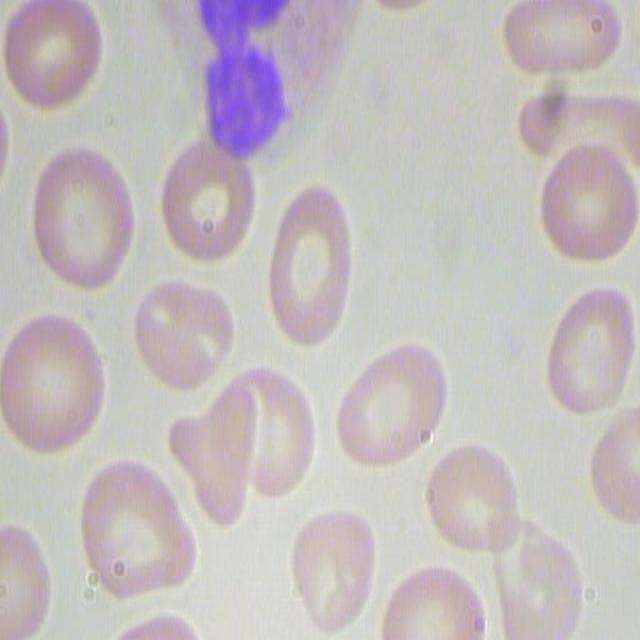RBC: (78, 457, 200, 604), (24, 139, 138, 295), (256, 178, 358, 348), (1, 306, 110, 459), (328, 342, 446, 472), (218, 366, 320, 500), (538, 280, 637, 417), (156, 133, 257, 264), (132, 274, 236, 398), (530, 145, 638, 262), (0, 1, 104, 116), (423, 439, 521, 557), (498, 1, 626, 89), (489, 522, 584, 638), (288, 510, 378, 629), (378, 561, 488, 638), (588, 408, 640, 526), (0, 522, 50, 638)
WBC: (160, 1, 354, 154)
